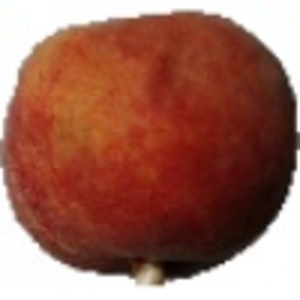pêssego: (1, 9, 300, 290)
